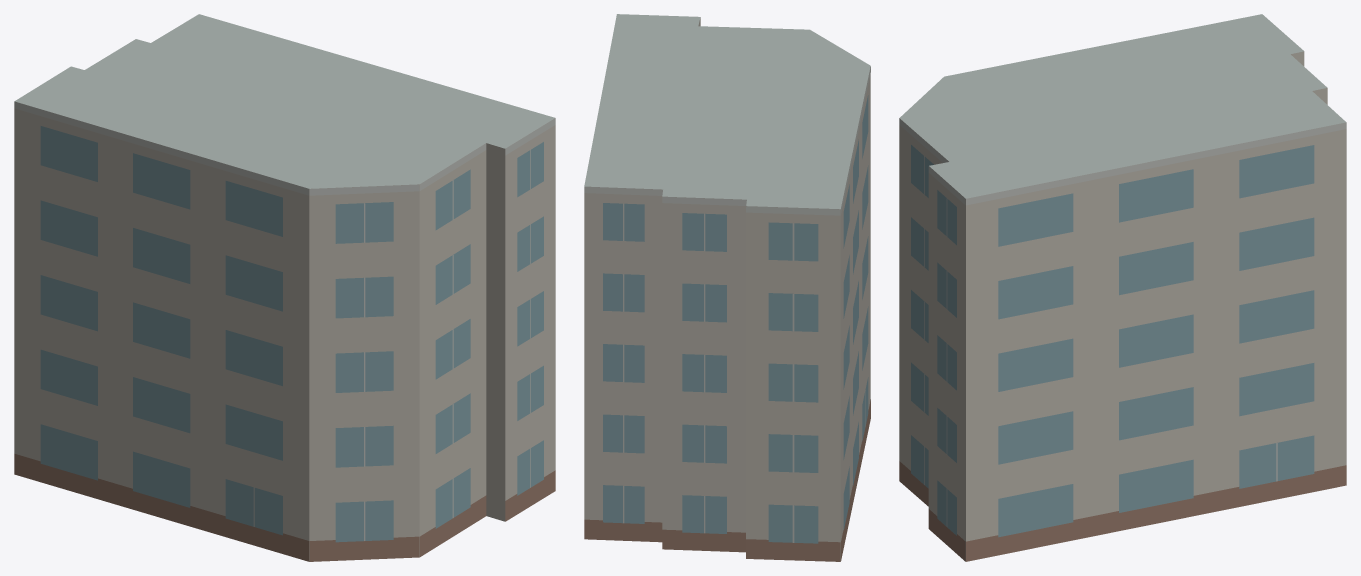
Rendered from survey-upis-32929504.glb.
3 views of the same model, side by side, from view 1: azimuth 30°, elevation 25°; view 2: azimuth 150°, elevation 25°; view 3: azimuth 270°, elevation 25° (orthographic). The views are drawn at different scales.
Parts seen in each view (by area): view 1: survey-upis-32929504.tmp; view 2: survey-upis-32929504.tmp; view 3: survey-upis-32929504.tmp.
Boxes of the visible parts, <box> form: survey-upis-32929504.tmp: <box>14,14,555,561</box>; survey-upis-32929504.tmp: <box>584,14,870,561</box>; survey-upis-32929504.tmp: <box>899,14,1346,561</box>.
Size of the model in its own units: 14.42 by 13.2 by 14.74.
